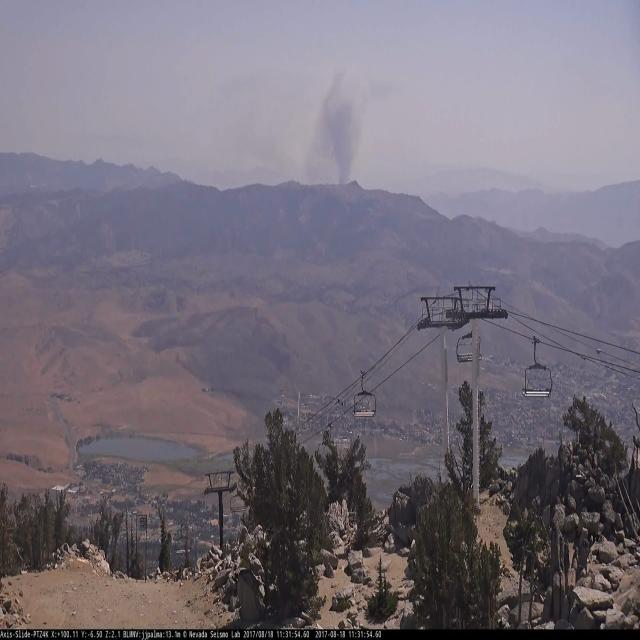smoke: (319, 55, 372, 188)
